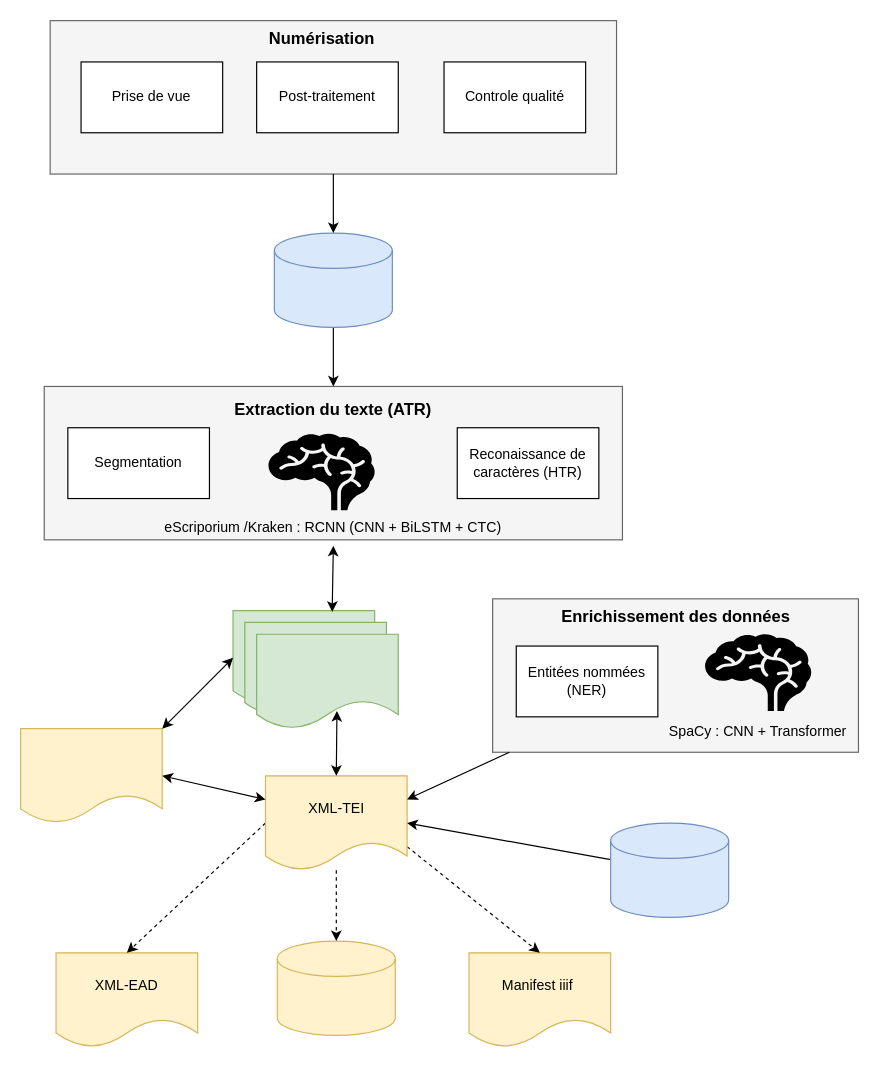
The diagram is 879 pixels wide and 1068 high, and some of its shapes have lost their labels. Each missing label, with the box of its shape:
Metadonnées: (609, 822, 729, 917)
PDF/A-3u: (19, 727, 162, 823)
RDF: (276, 940, 395, 1035)
TIFF: (273, 232, 392, 327)
XML-Alto: (255, 633, 398, 729)
